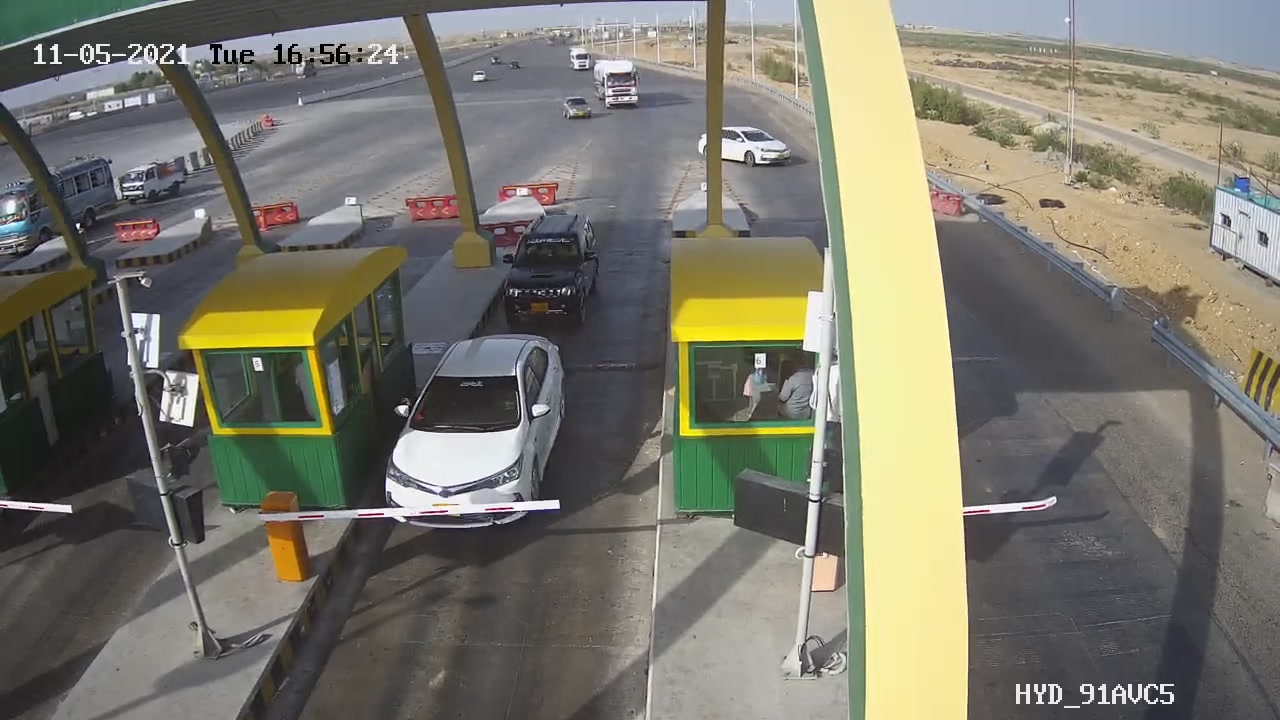F1: (367, 321, 587, 549), (483, 203, 622, 334)
